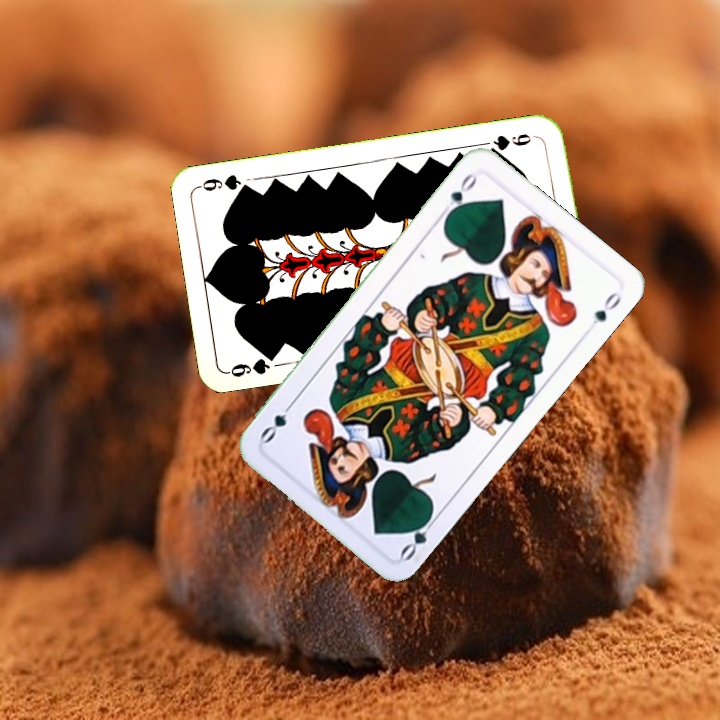G9: (223, 348, 281, 380), (484, 129, 541, 156)
GO: (396, 509, 441, 563), (437, 169, 481, 221)
